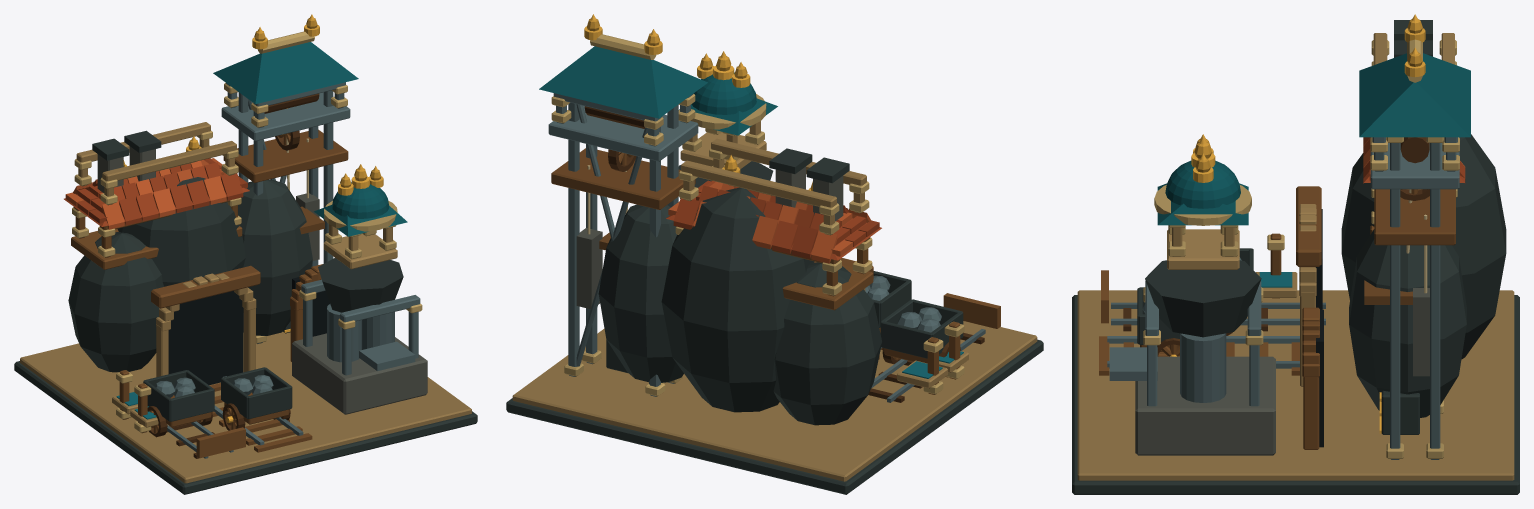
The picture shows the model from 3 angles, left to right: view 1: azimuth 30°, elevation 25°; view 2: azimuth 150°, elevation 25°; view 3: azimuth 270°, elevation 25°; orthographic projection. The views are drawn at different scales.
Parts seen in each view (by area): view 1: mine_15_structure, mine_15_metal; view 2: mine_15_structure, mine_15_metal; view 3: mine_15_structure, mine_15_metal.
Part boxes in pixels (x1,y1,x2,y2): mine_15_structure: (14,18,477,494); mine_15_metal: (124,14,383,422); mine_15_structure: (506,18,1043,494); mine_15_metal: (584,14,810,190); mine_15_structure: (1072,19,1519,494); mine_15_metal: (1170,14,1425,433).
Size of the model in its own units: 5.6 by 5.87 by 5.6.
